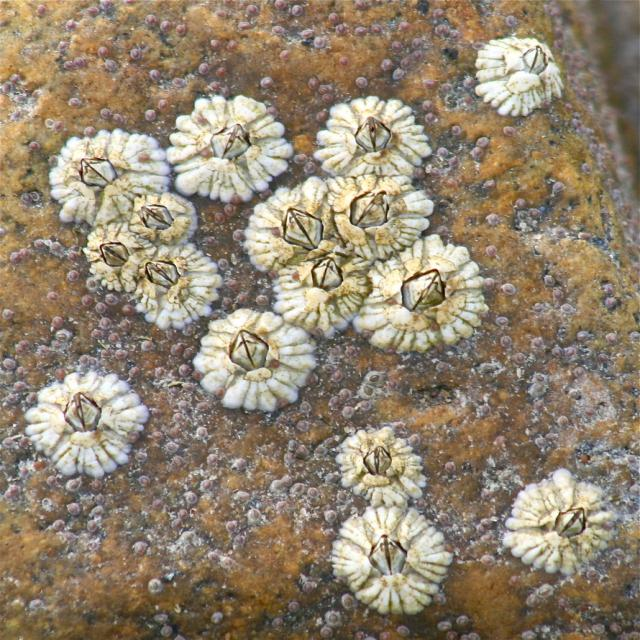barnacles: (19, 364, 154, 485), (328, 505, 456, 620), (497, 464, 622, 580), (189, 306, 318, 416), (173, 92, 291, 202), (370, 246, 488, 356), (466, 28, 572, 122), (313, 99, 430, 179), (279, 247, 376, 336), (52, 132, 161, 210), (329, 428, 436, 507), (125, 242, 219, 331), (325, 172, 432, 250), (252, 183, 340, 258), (126, 192, 200, 247), (86, 222, 146, 286)
